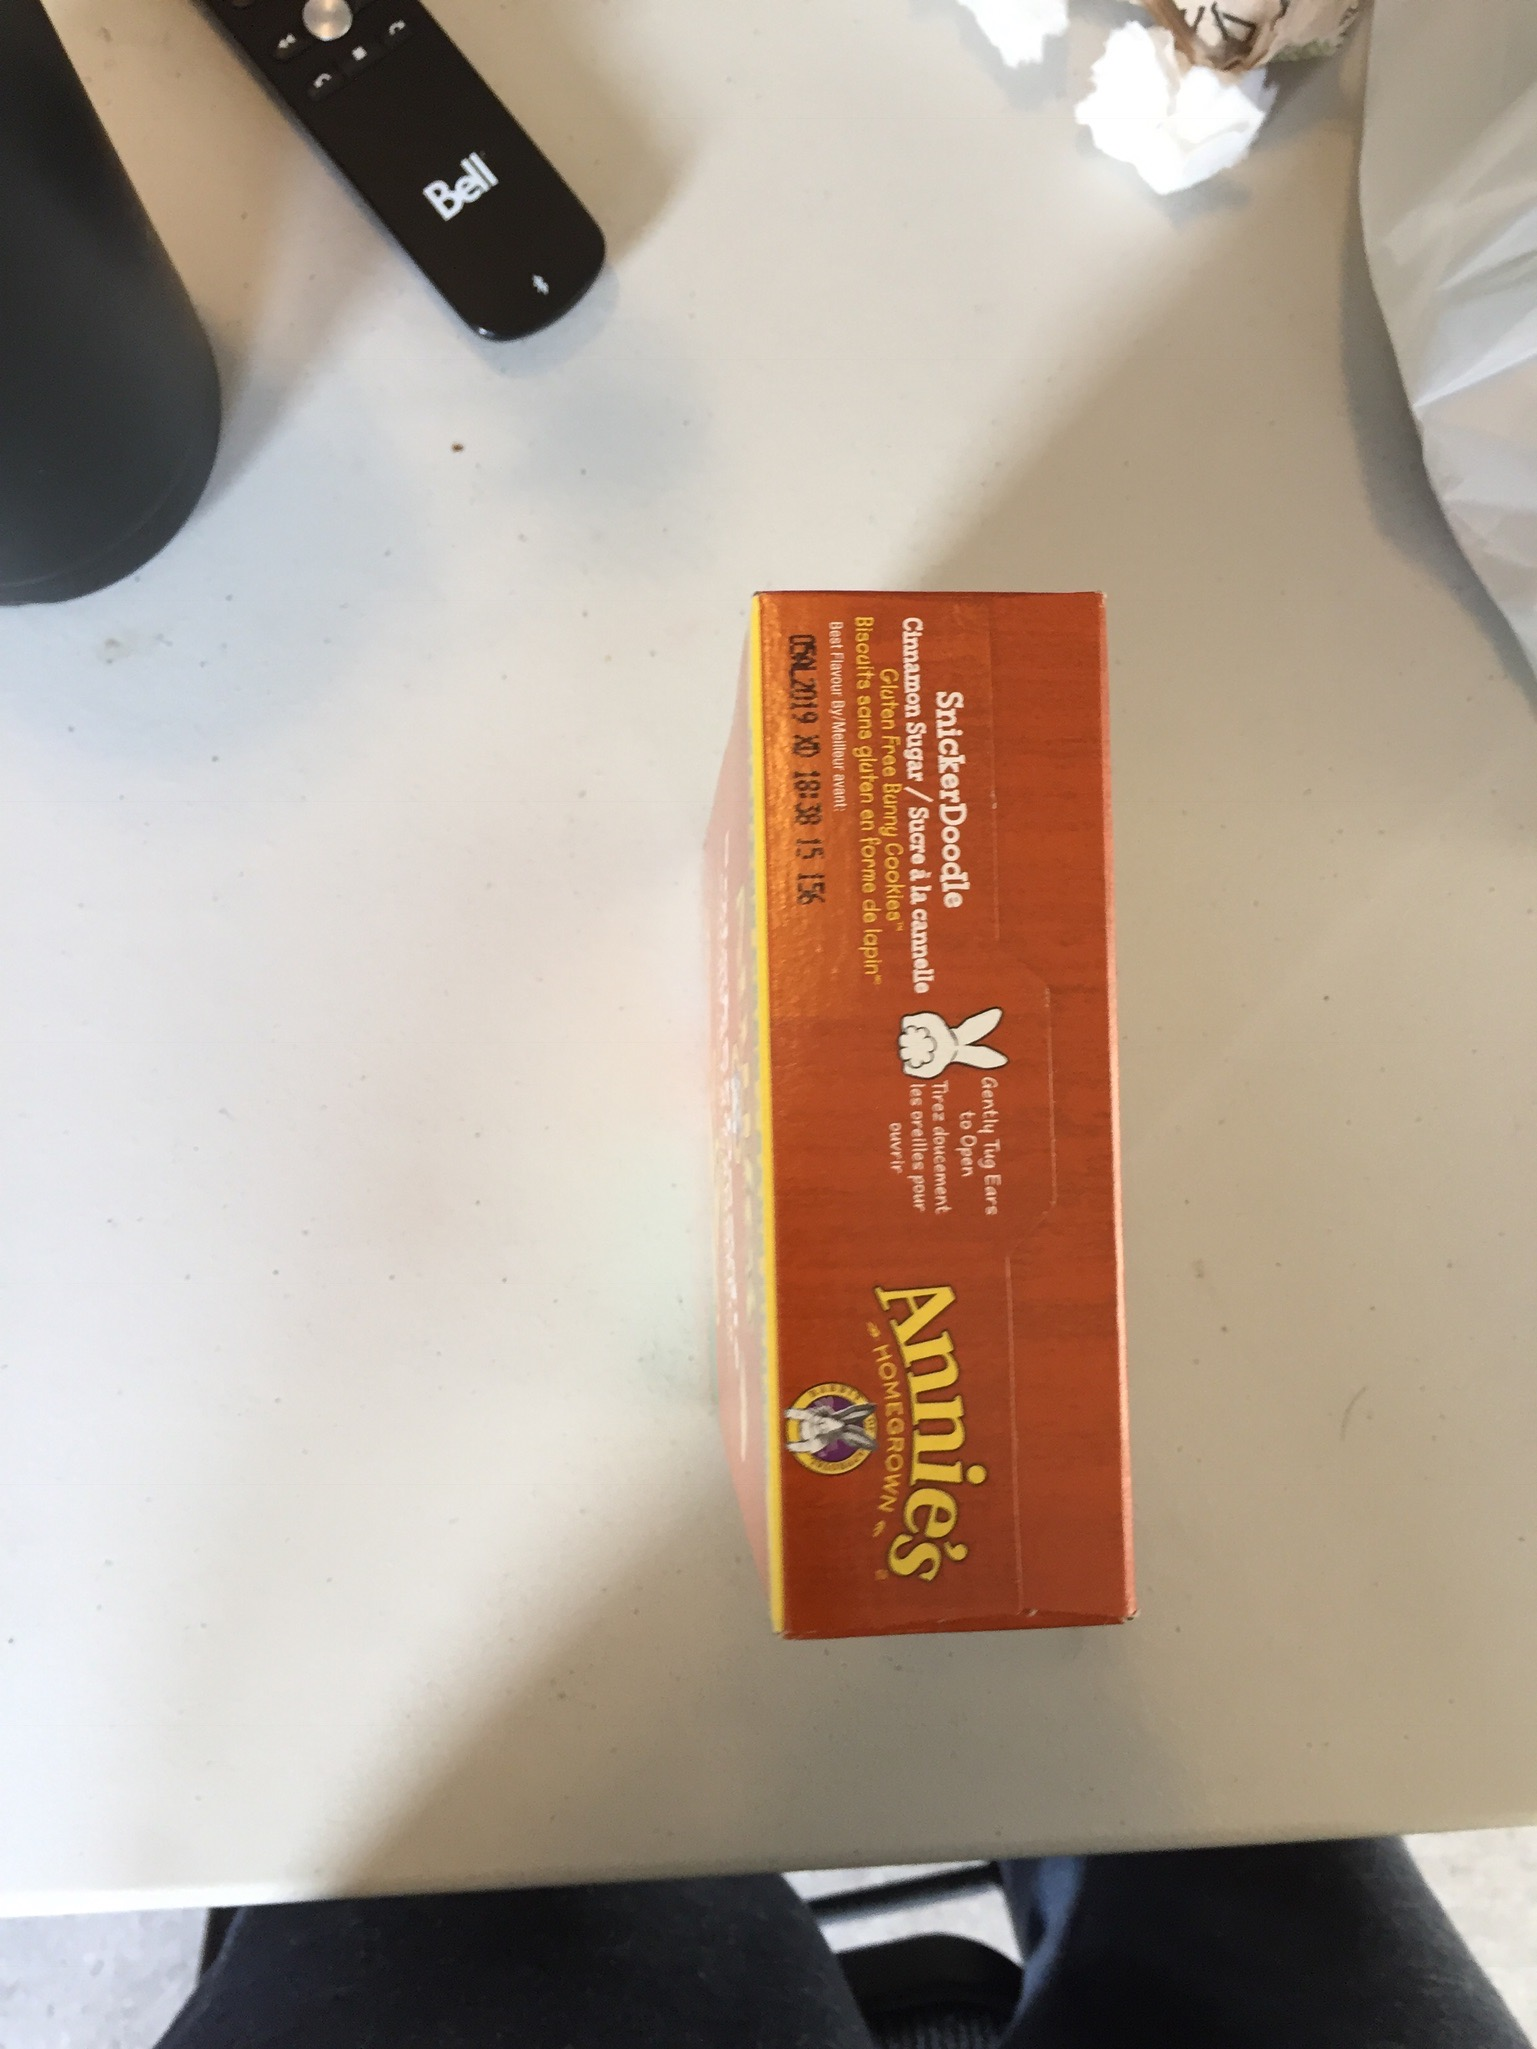annies_snickerdoodles_cinnamon_sugar: (757, 597, 1109, 1626)
